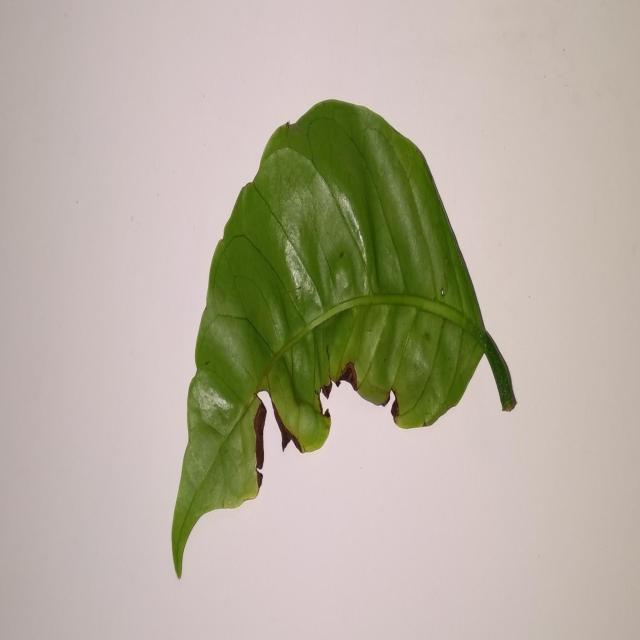Enfermedad-Antracnosis: (169, 100, 517, 581)
